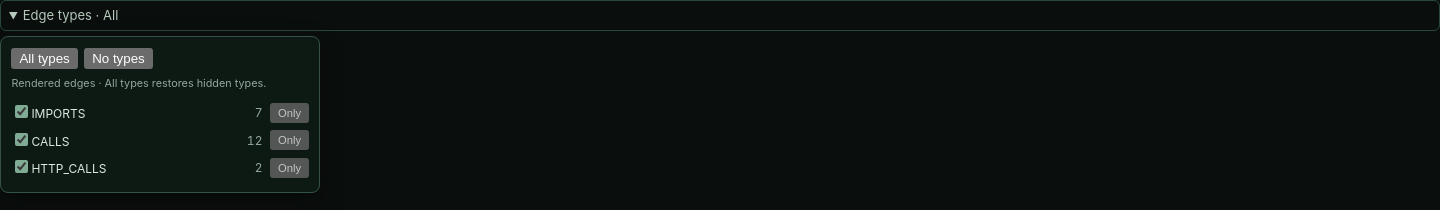
Test: selects only one relationship type and reflects it in labeled checkboxes
Click the button "Only" next to "12" at (290, 140), box [270,130,309,150]
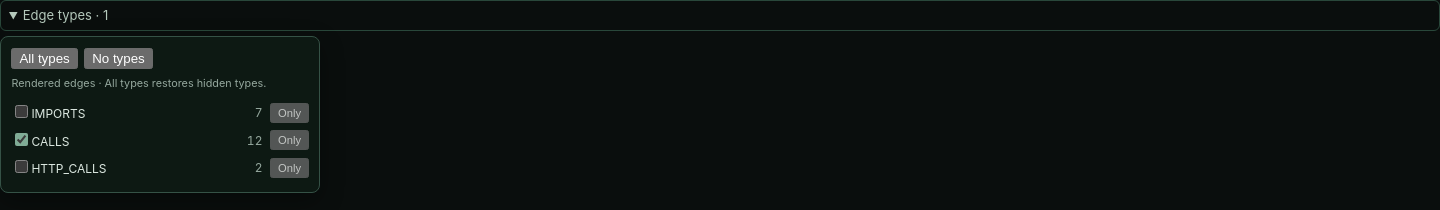
Expected: the checkbox labelled "IMPORTS" is not checked, [15,105,28,118]
Expected: the checkbox labelled "HTTP_CALLS" is not checked, [15,160,28,173]
Expected: the heading "Edge types · 1" is shown, [0,0,1439,31]
